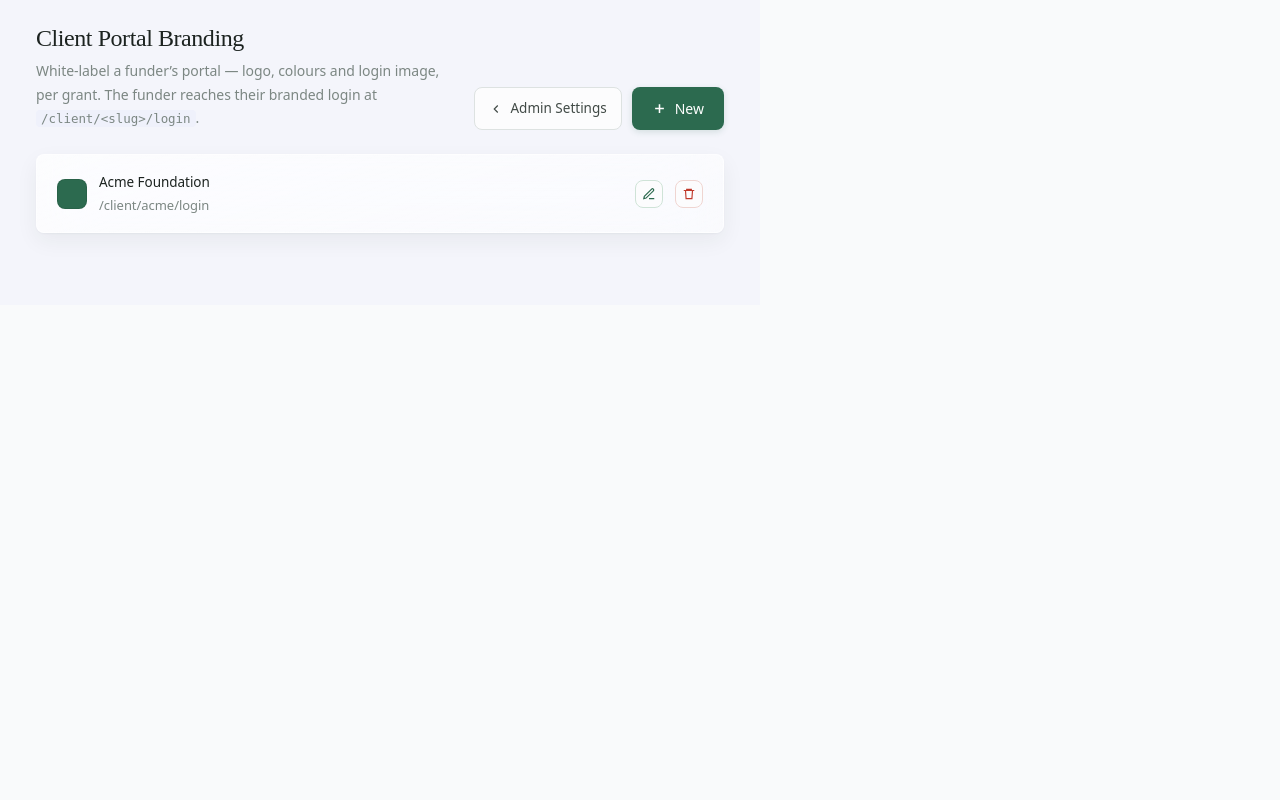
Test case: a new branding suggests its link from the grant funder until the link is edited
Click the button "New". click: (678, 109)
box: [632,87,724,130]
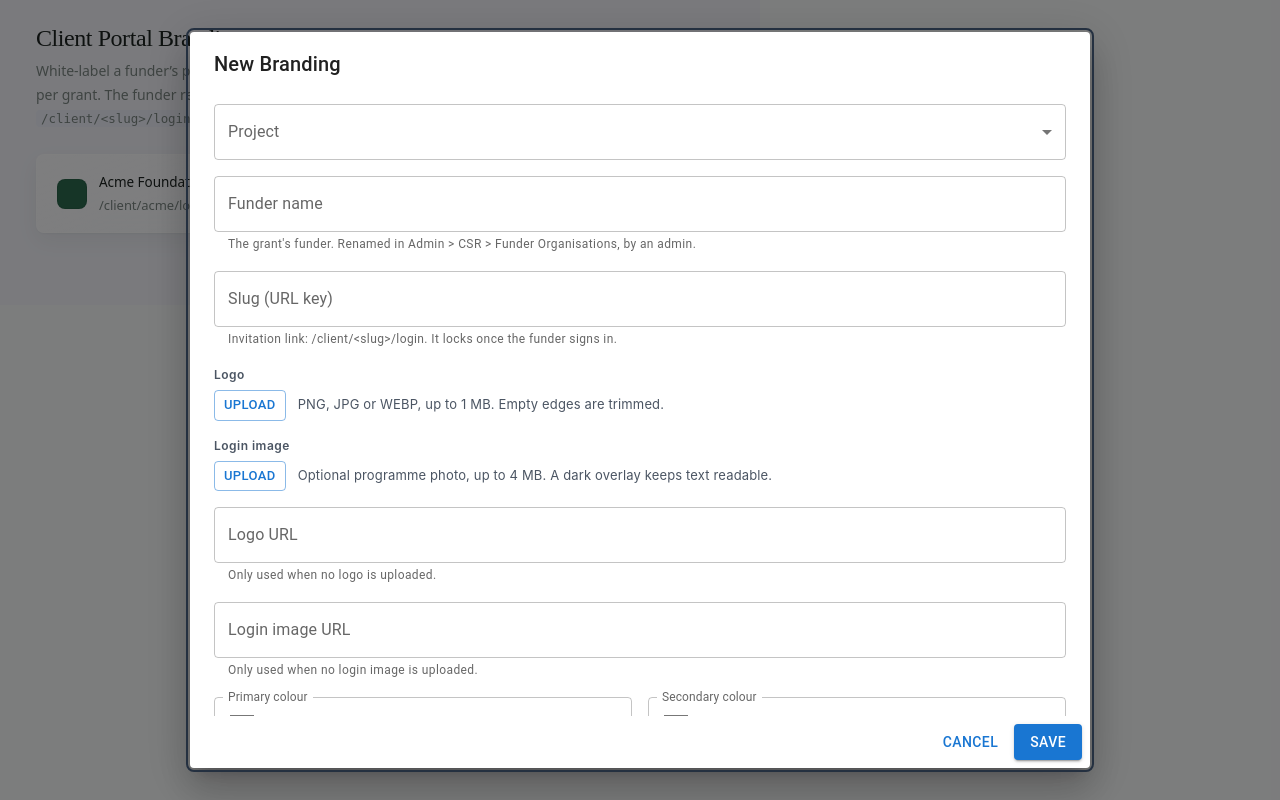
Click the dropdown named "Project". click: (640, 132)
box: [214,104,1066,160]
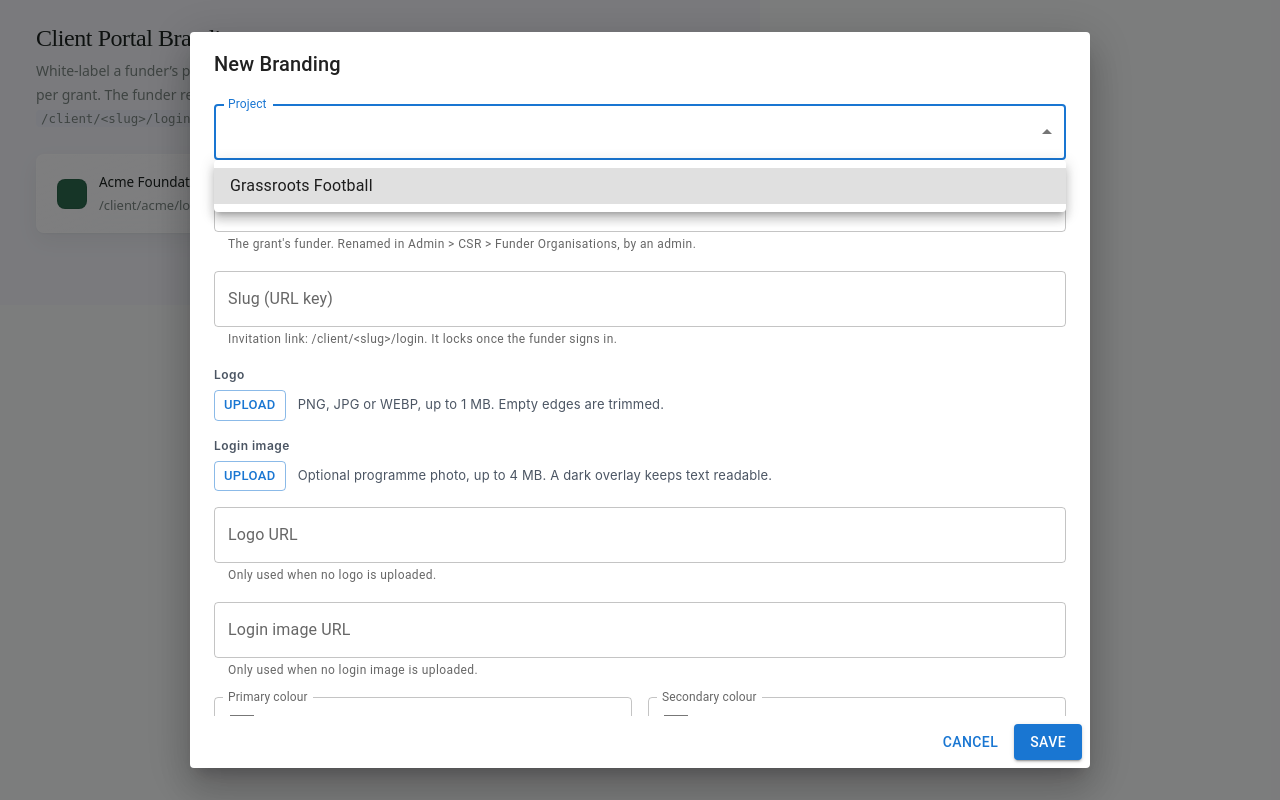
Click the option "Grassroots Football". click: (301, 186)
box: [214,168,1066,204]
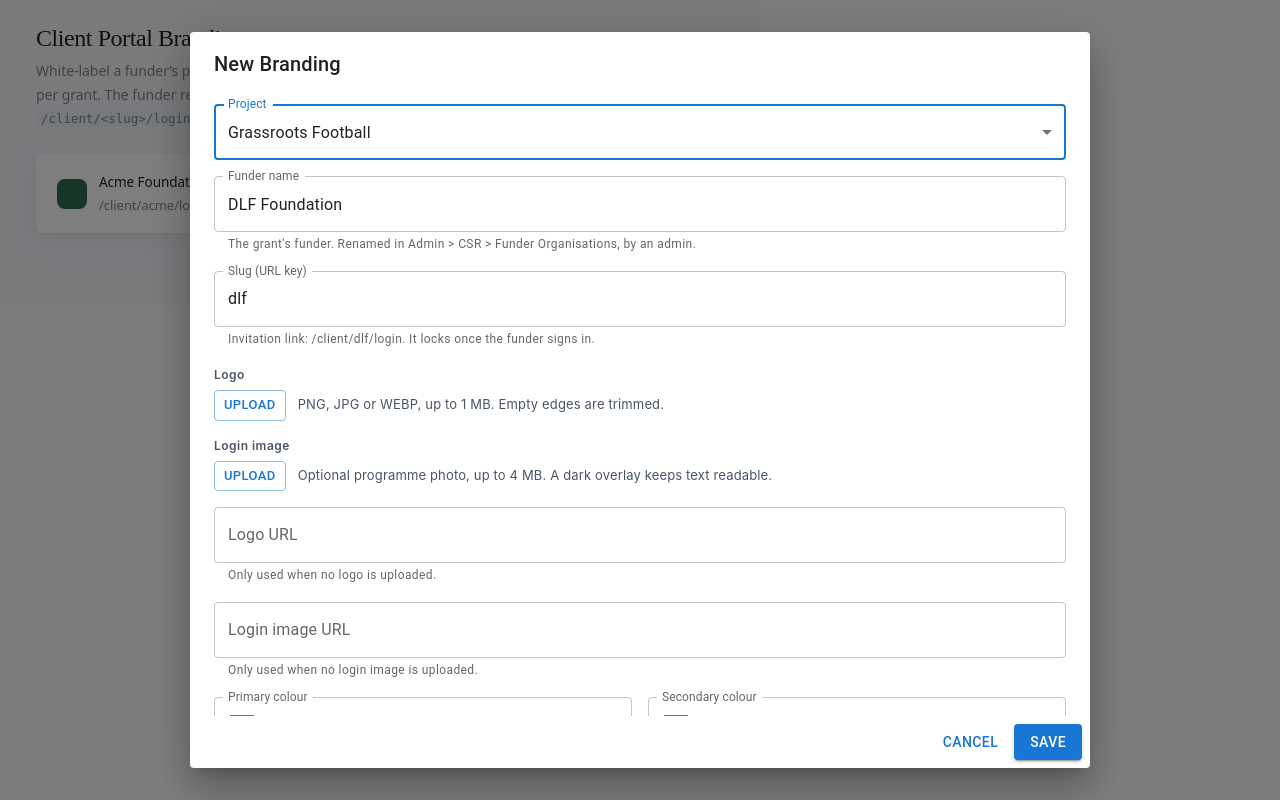
Check: the field labelled "Funder name" holds "DLF Foundation", box [214,176,1066,232]
Check: the field labelled "Slug (URL key)" holds "dlf", box [214,271,1066,327]
Check: the text "Invitation link: /client/dlf/login. It locks once the funder signs in." is shown, box [228,332,595,346]
